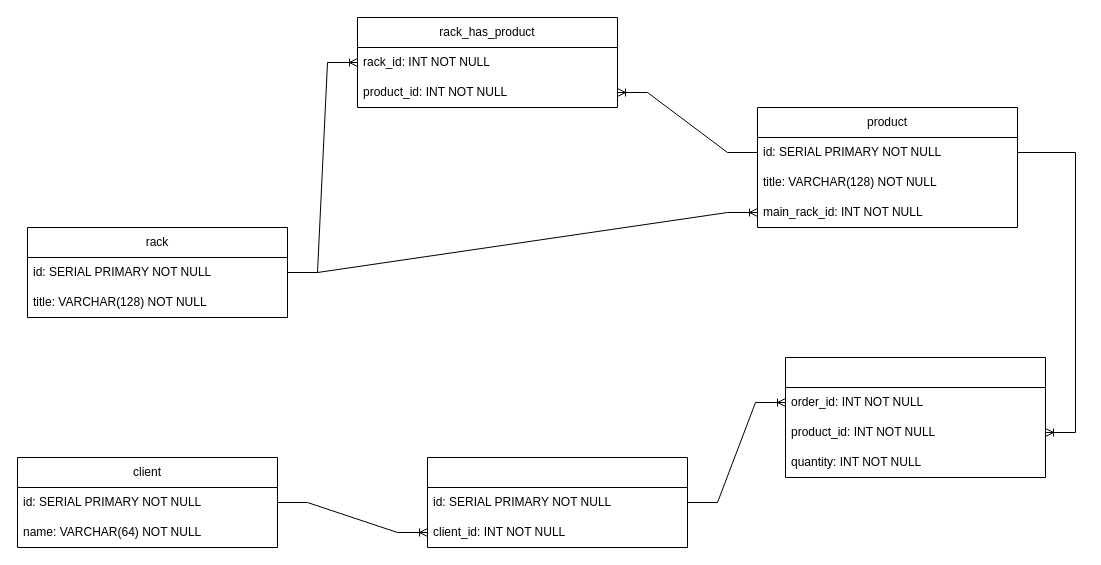
Some shapes in this 1101 by 565 pixel diagram are drawn without their labels. The shapes that lost their labels are listed below. From the top down, each one's box as (x1, y1, x2, y2) in pixels, then its label:
(784, 356, 1046, 478): order_has_product
(426, 456, 688, 548): order
